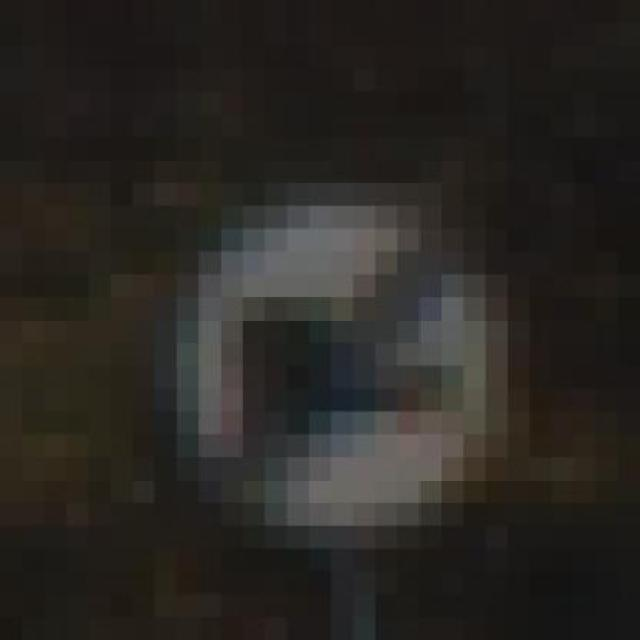Overtaking by trucks is prohibited: (110, 137, 530, 572)
